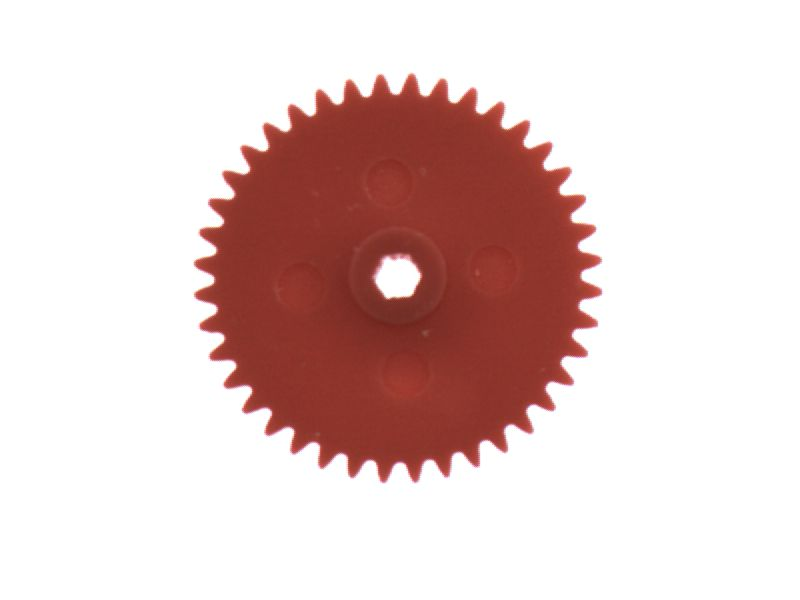good_product: (180, 61, 629, 490)
